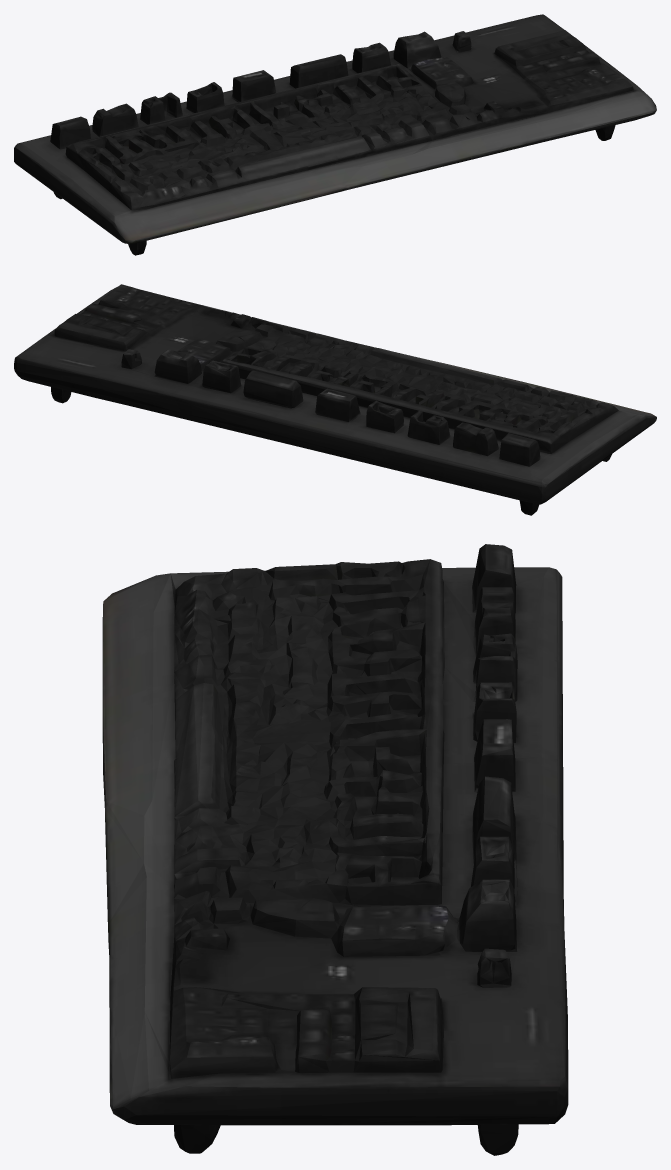
File: desk_keyboard.glb
The picture shows the model from 3 angles, top to bottom: view 1: azimuth 30°, elevation 25°; view 2: azimuth 150°, elevation 25°; view 3: azimuth 270°, elevation 25°; orthographic projection. The views are drawn at different scales.
Parts seen in each view (by area): view 1: geometry_0; view 2: geometry_0; view 3: geometry_0.
Part boxes in pixels (x1,y1,x2,y2): geometry_0: (14,14,656,255); geometry_0: (14,284,656,515); geometry_0: (102,544,568,1155).
Bounding box in the file's own units: 1 × 0.1358 × 0.3792.
1 material, 1 textured.
